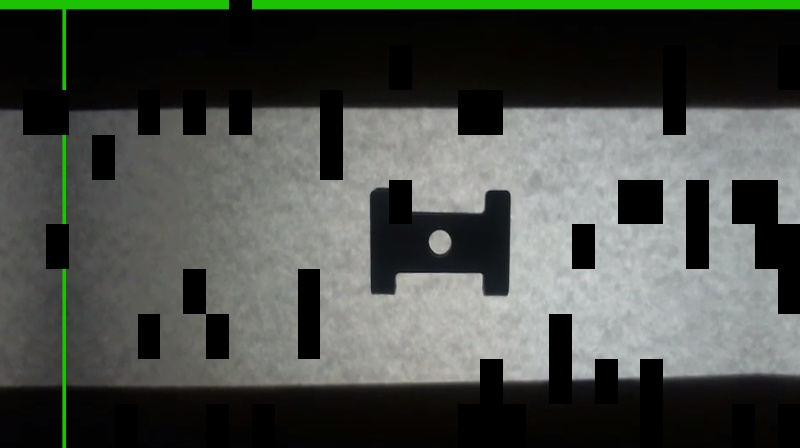O002: (365, 184, 515, 297)
